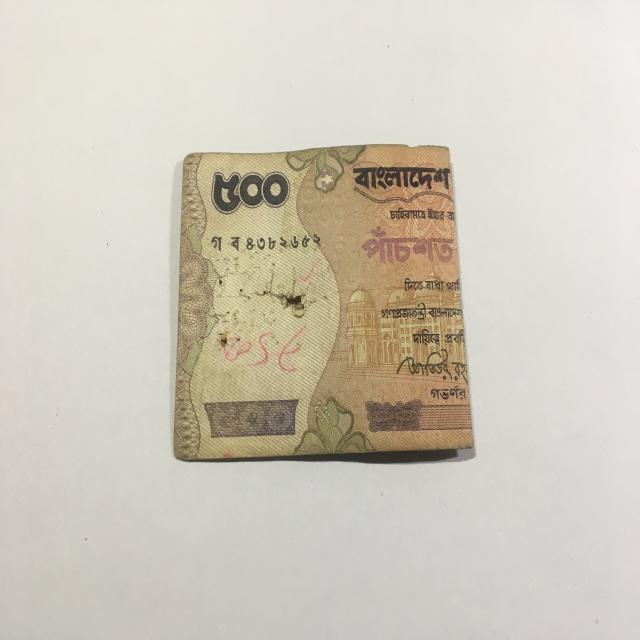Taka: (172, 142, 481, 461)
